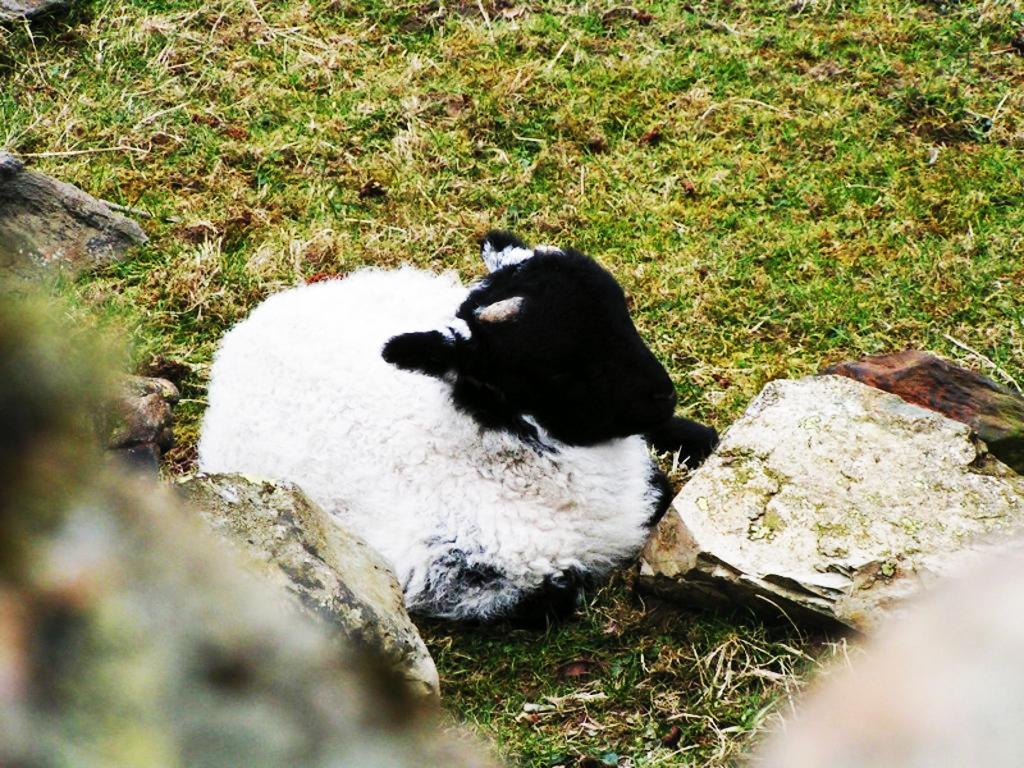Sheep: (177, 228, 727, 639)
